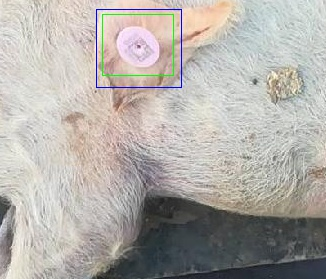text: (102, 14, 173, 75)
